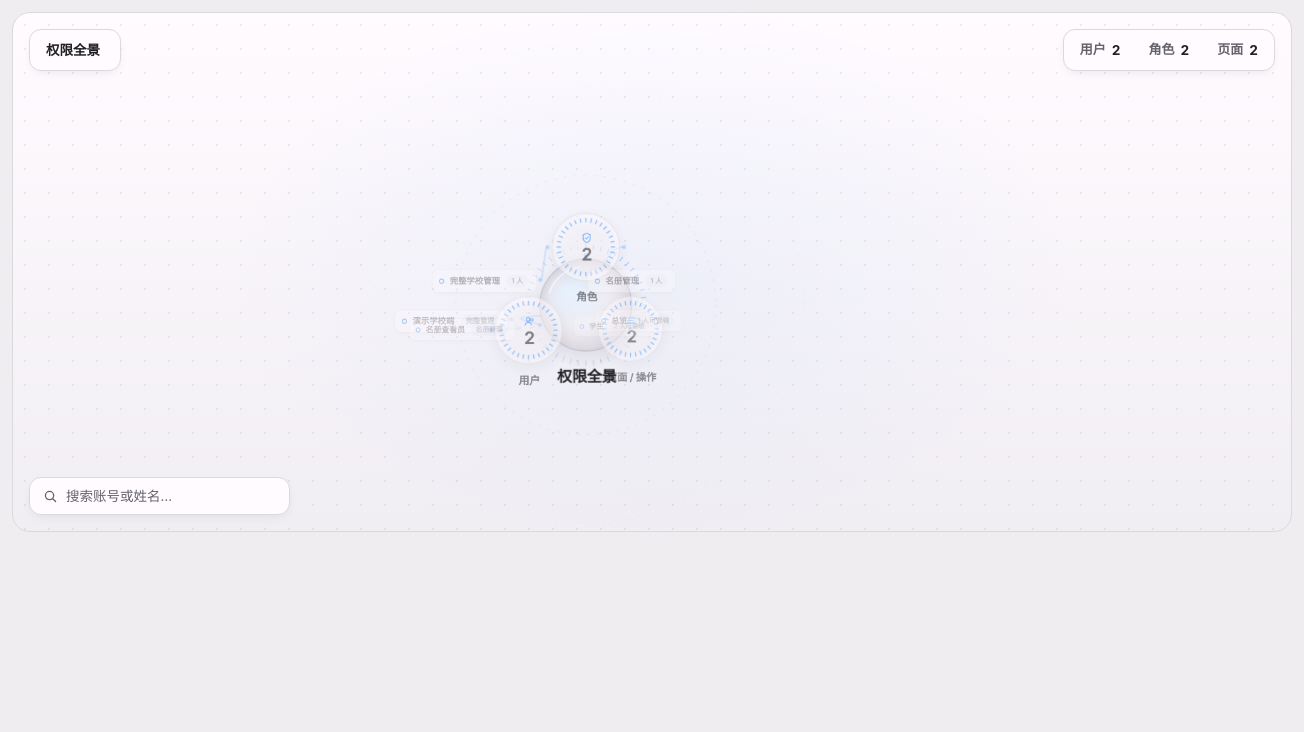
Test case: PermissionExplorer › does not offer a page jump to a school viewer without that page's read permission
Click the button with aria-label "用户，2 个账号" at (529, 331), box [516, 318, 542, 344]
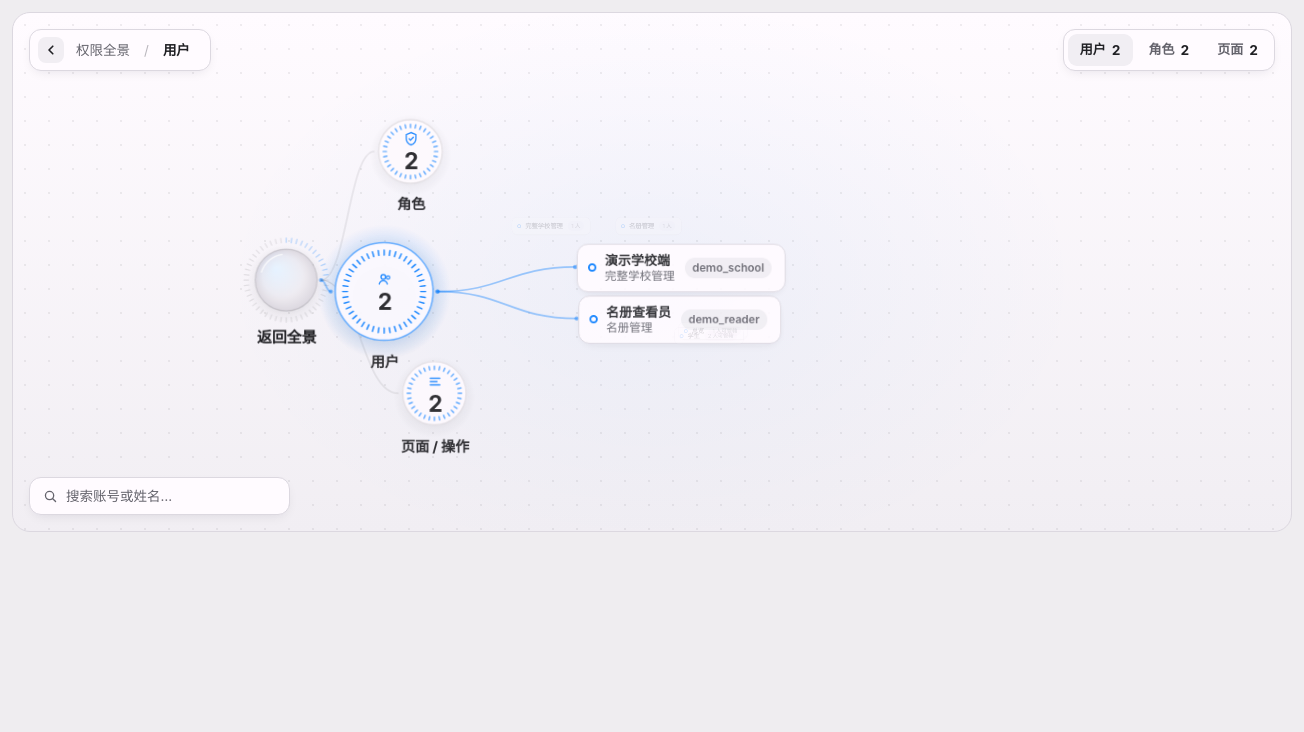
Click the button with aria-label "用户：名册查看员" at (588, 320), box [571, 303, 604, 336]
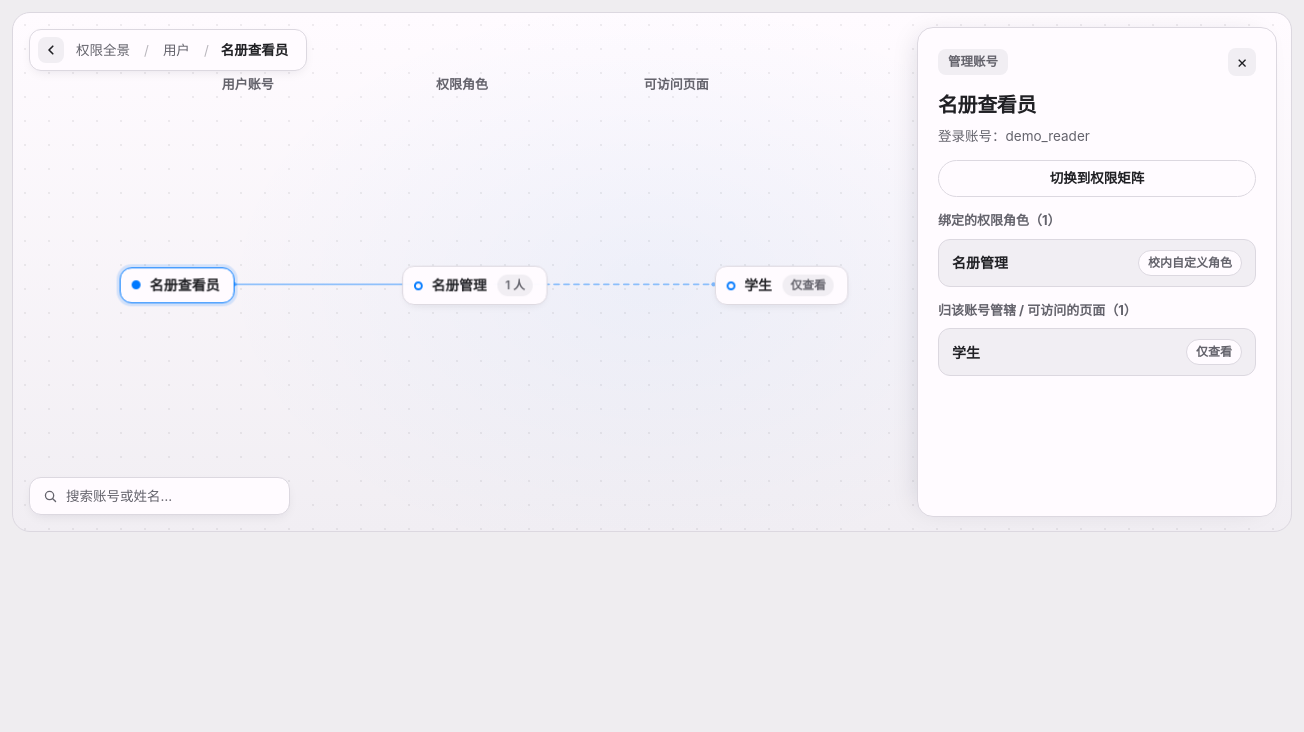
Result: the element named "授权来源详情" is shown at [917, 27, 1277, 517]
